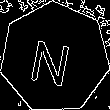N_N: (31, 29, 79, 86)
